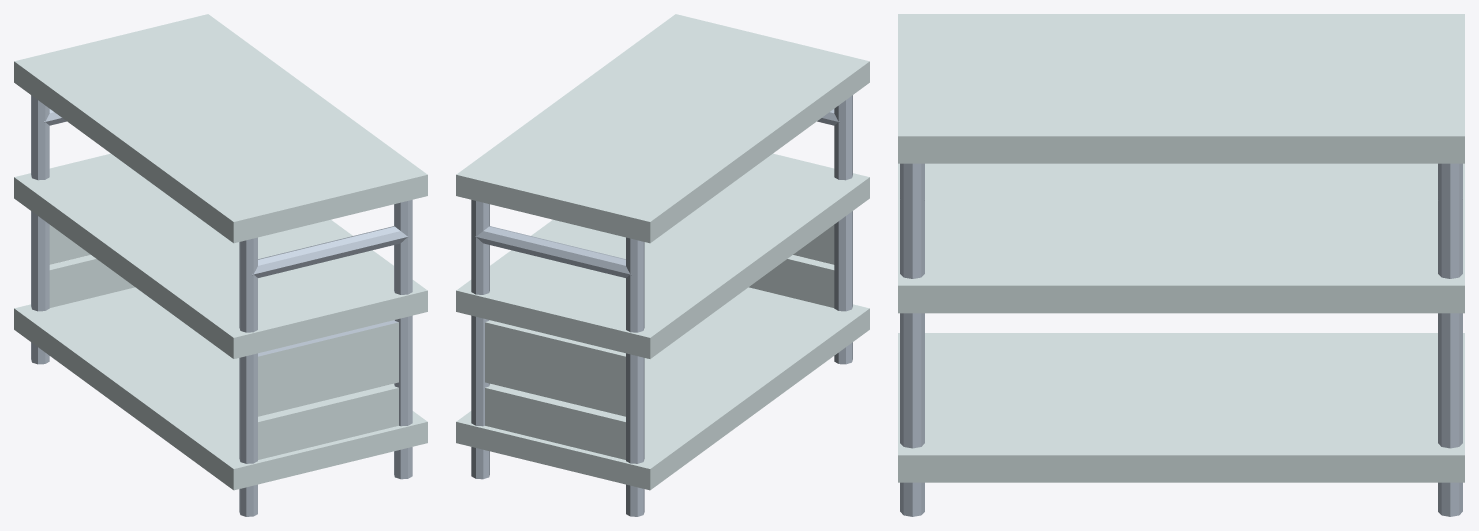
3 renders of one model, left to right at view 1: azimuth 30°, elevation 25°; view 2: azimuth 150°, elevation 25°; view 3: azimuth 270°, elevation 25°, orthographic. The views are drawn at different scales.
Parts seen in each view (by area): view 1: SmallBookSelf; view 2: SmallBookSelf; view 3: SmallBookSelf.
Boxes of the visible parts, x1,y1,x2,y2 form: SmallBookSelf: (14,14,427,516); SmallBookSelf: (456,14,869,516); SmallBookSelf: (898,14,1464,516).
Size of what is drawn, in the model's own units: 57.13 by 84.42 by 112.
